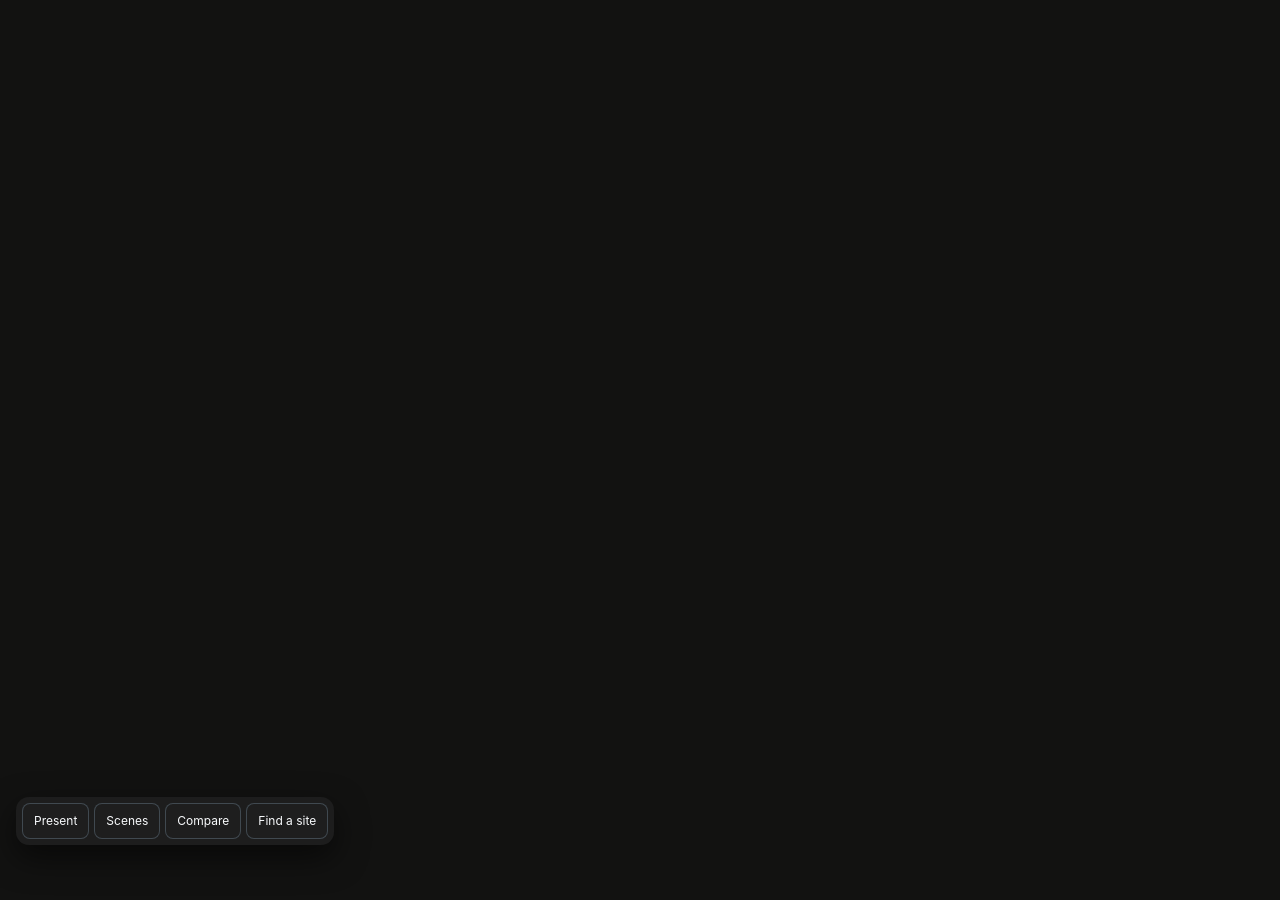
Test case: baseline comparison needs a captured map and screening is explicitly indicative
Click the button "Compare" at {"x": 203, "y": 821}, box [165,803,241,839]
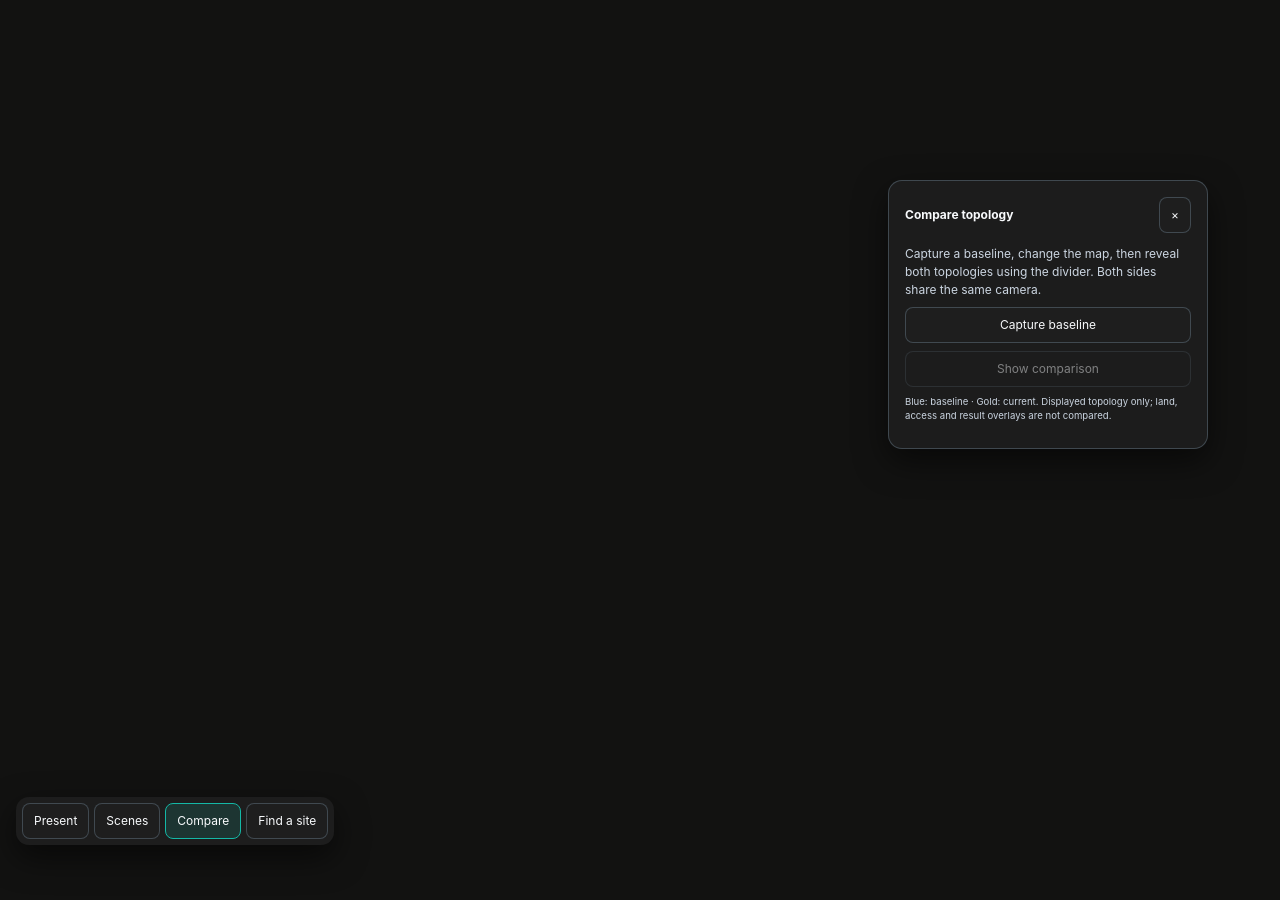
Result: the button "Show comparison" is disabled at [905,351,1191,387]
Click the button "Capture baseline" at {"x": 1048, "y": 325}, box [905,307,1191,343]
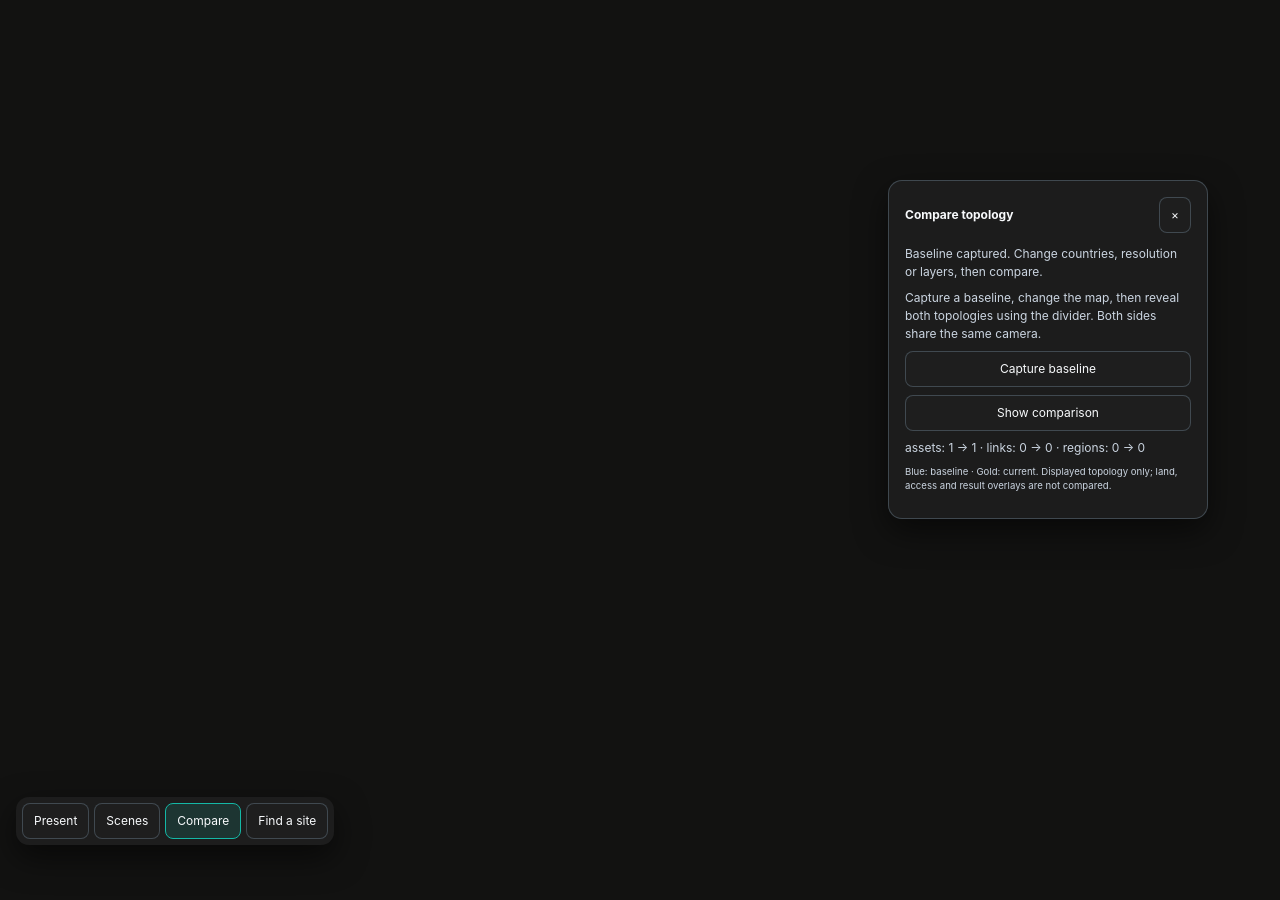
Result: the button "Show comparison" is enabled at [905,395,1191,431]
Click the button "Find a site" at {"x": 287, "y": 821}, box [246,803,328,839]
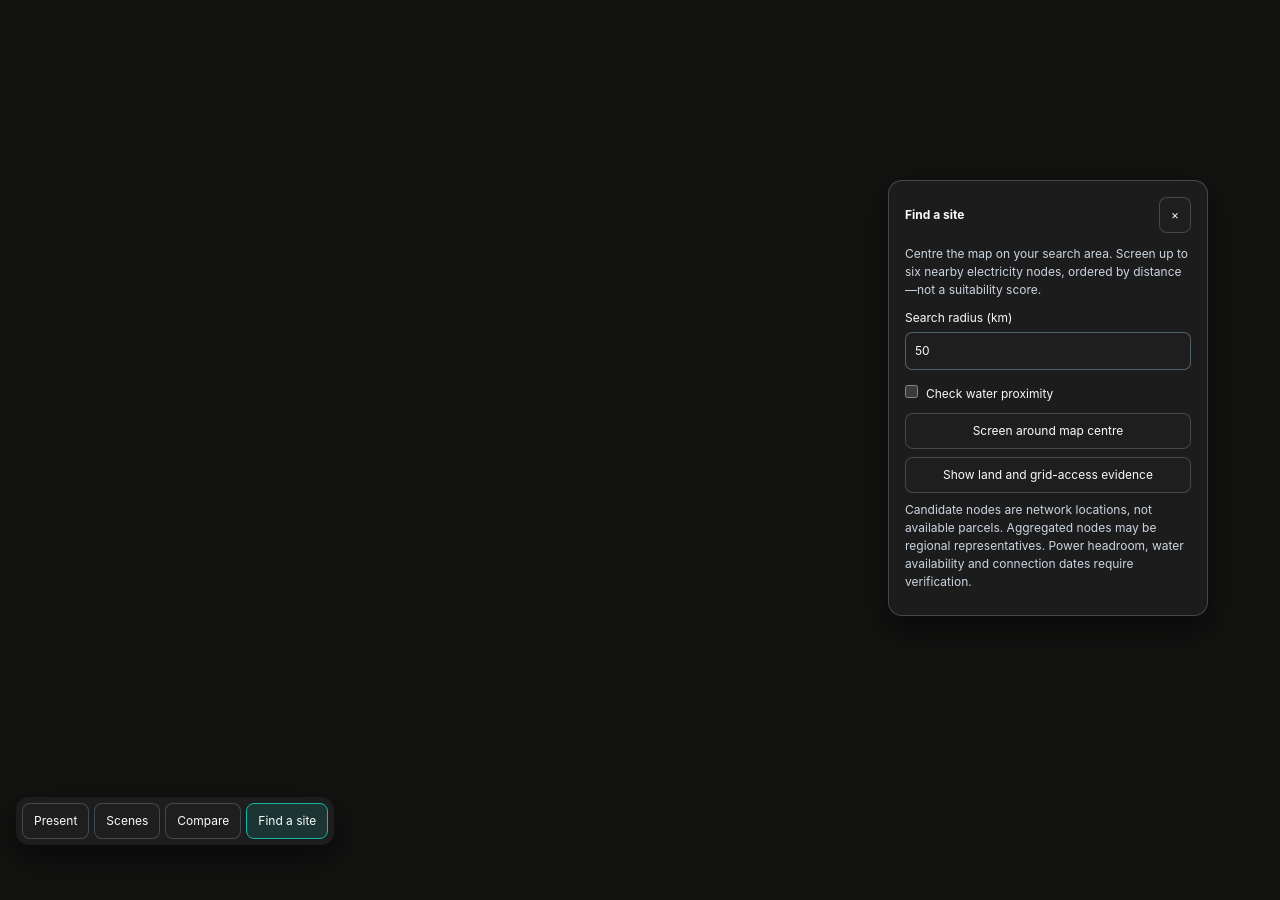
Result: the button "Screen around map centre" is enabled at [905,413,1191,449]
Result: the text "not available parcels" is shown at [905,502,1184,589]
